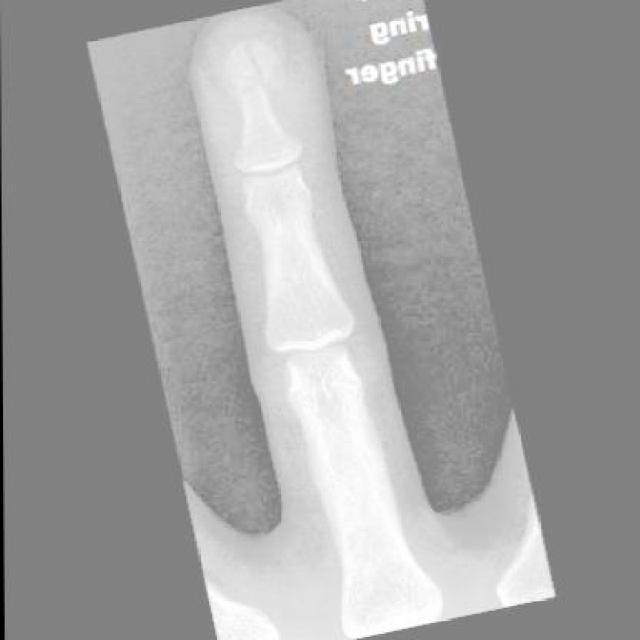Fracture: (217, 34, 292, 107)
